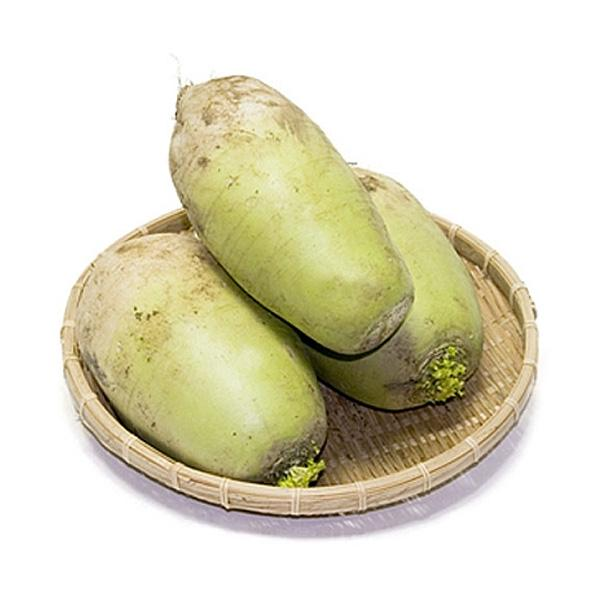radish: (170, 76, 382, 328)
